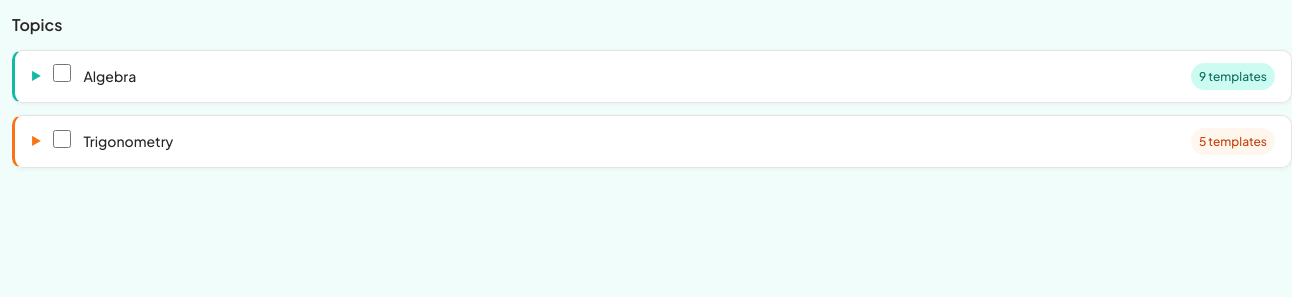
Test: TopicSelector › rendering › renders subtopics when a topic is expanded
Click the button "▶ Algebra 9 templates".
click(110, 76)  # box x1=31 y1=63 x2=1275 y2=90
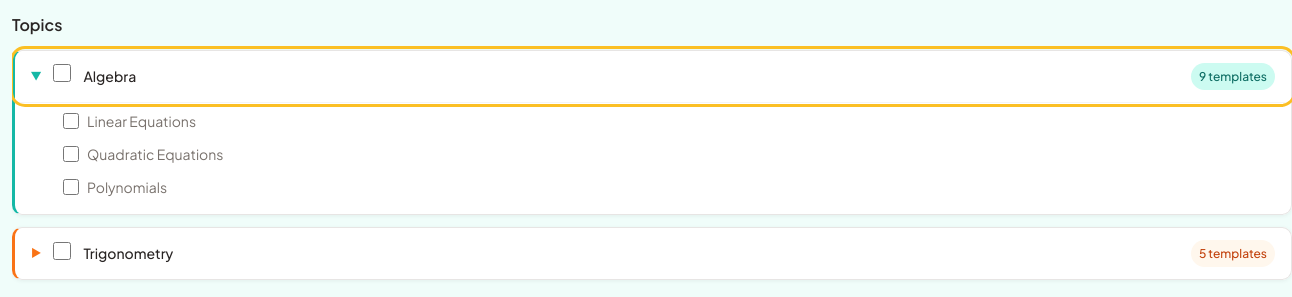
Result: the text "Linear Equations" is shown at x1=63 y1=112 x2=196 y2=130
Result: the text "Quadratic Equations" is shown at x1=63 y1=145 x2=223 y2=163
Result: the text "Polynomials" is shown at x1=63 y1=178 x2=167 y2=196
